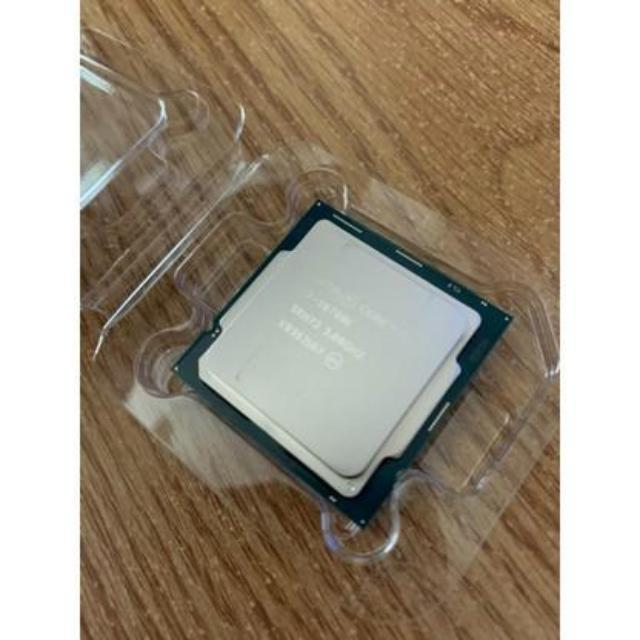CPU: (180, 208, 502, 510)
